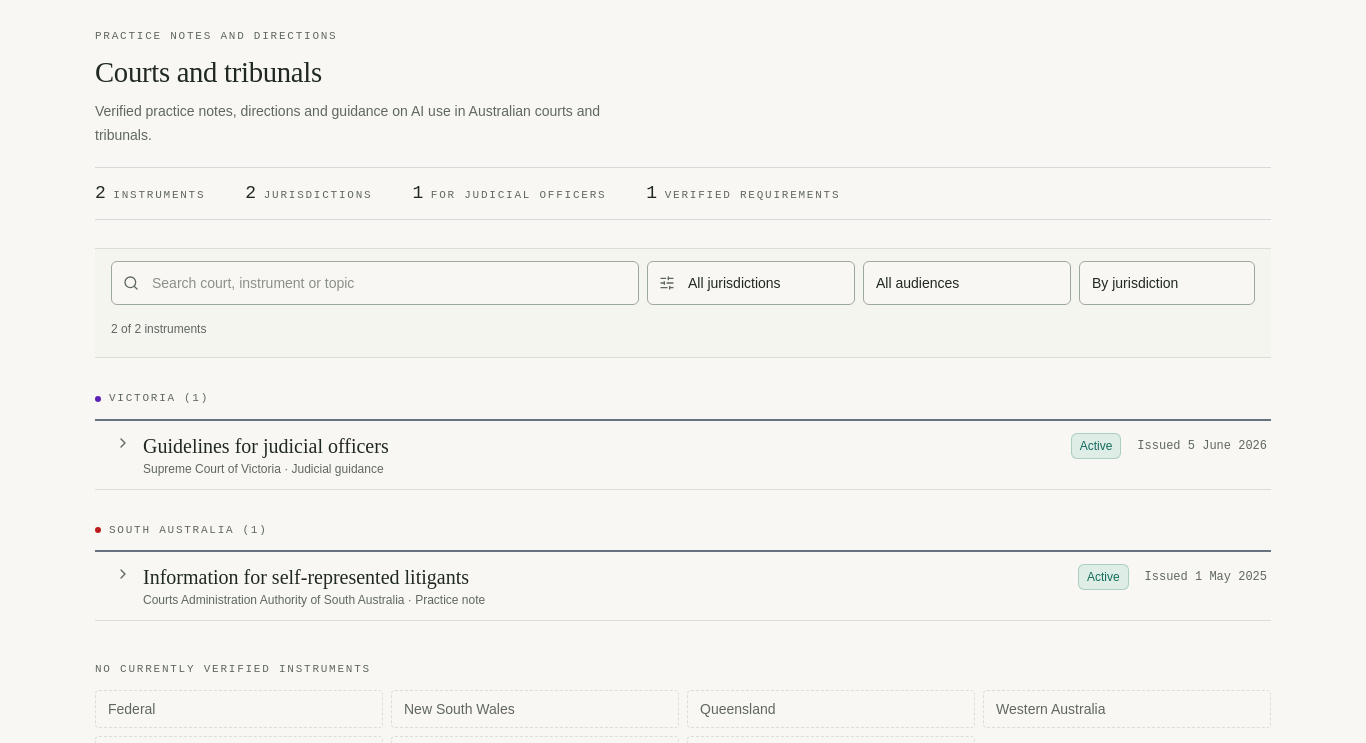
Scenario: CourtsBrowser › exposes disclosure state and associates the controlled panel
(page scrolled)
Click the button "Guidelines for judicial officers": click(266, 446) 107,421 -> 1271,489
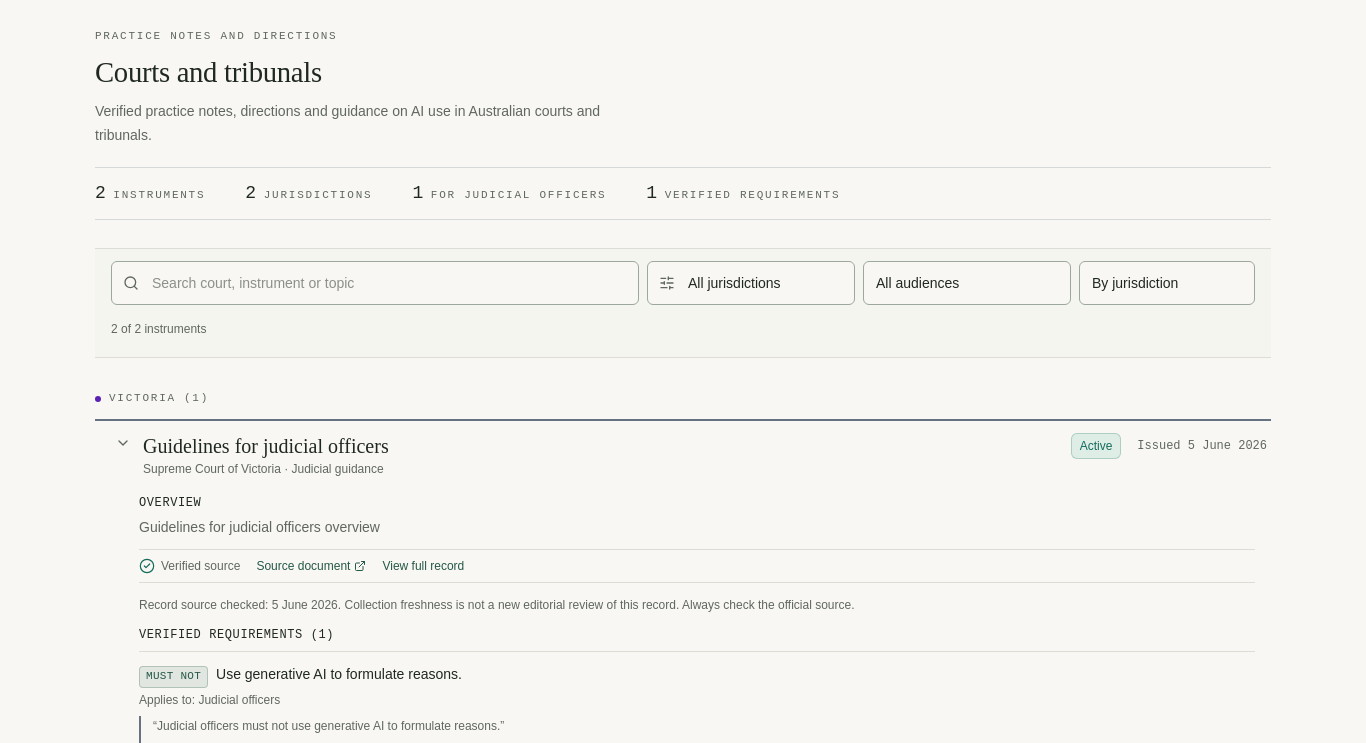
Result: the button "Guidelines for judicial officers" is expanded at 107,421 -> 1271,489
